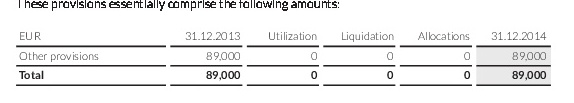table: (0, 0, 574, 103)
